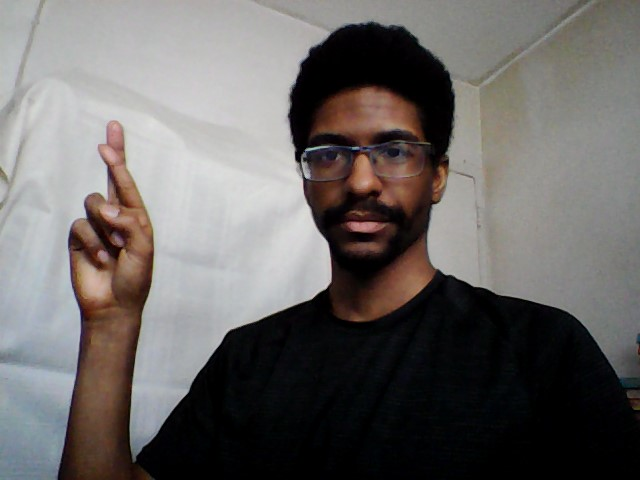r: (61, 113, 161, 317)
